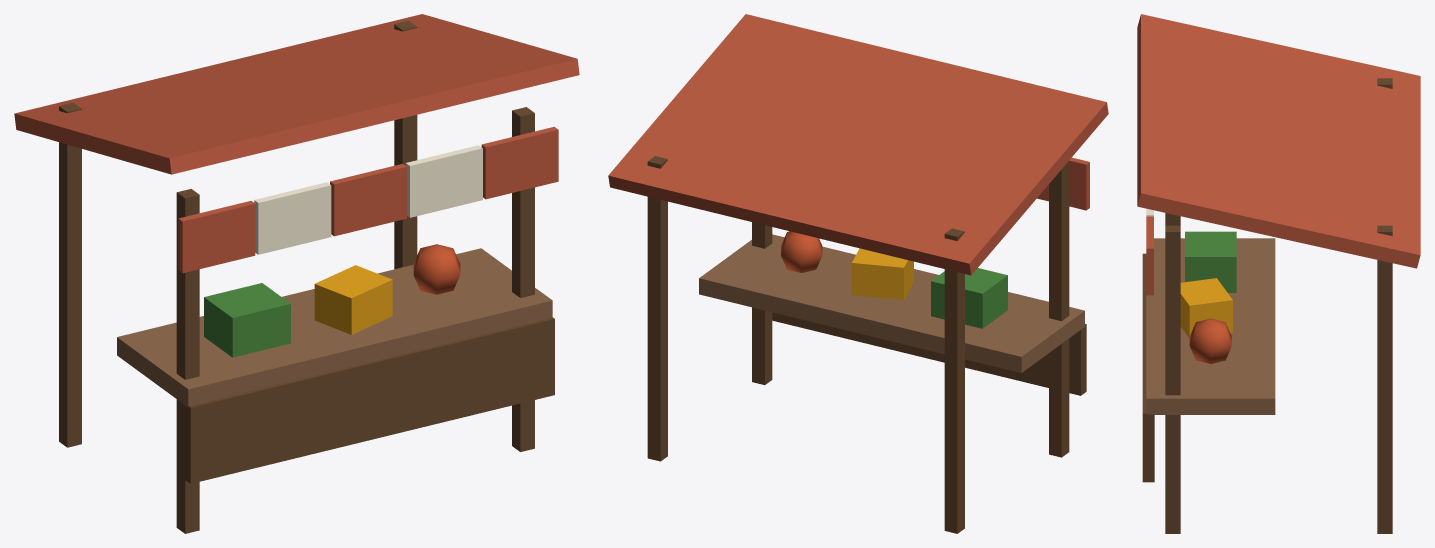
Rendered from stall.glb.
The picture shows the model from 3 angles, left to right: view 1: azimuth 30°, elevation 25°; view 2: azimuth 150°, elevation 25°; view 3: azimuth 270°, elevation 25°; orthographic projection. The views are drawn at different scales.
Parts seen in each view (by area): view 1: stall; view 2: stall; view 3: stall.
Part boxes in pixels (x1,y1,x2,y2): stall: (14, 14, 579, 533); stall: (608, 14, 1108, 533); stall: (1137, 14, 1420, 533).
Bounding box in the file's own units: 2.8 × 2.57 × 1.87.
